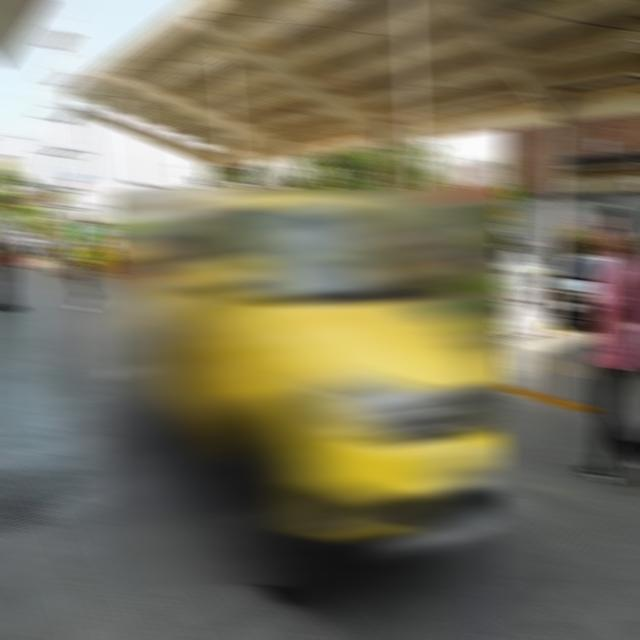Taxi: (109, 188, 506, 586)
